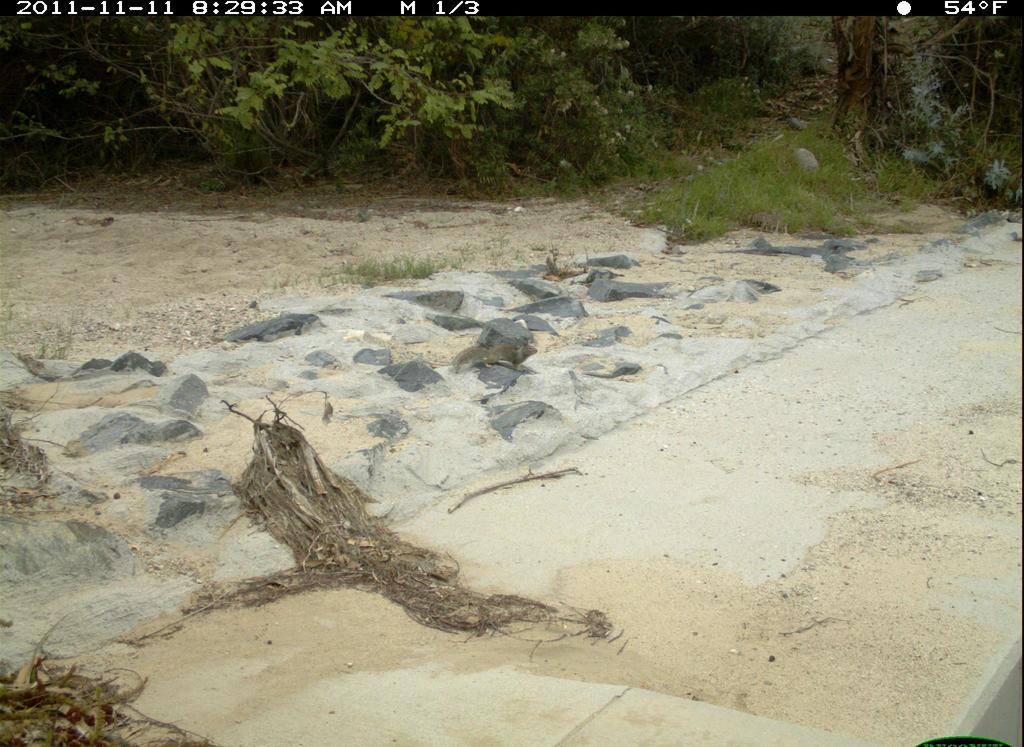squirrel: (446, 332, 545, 382)
